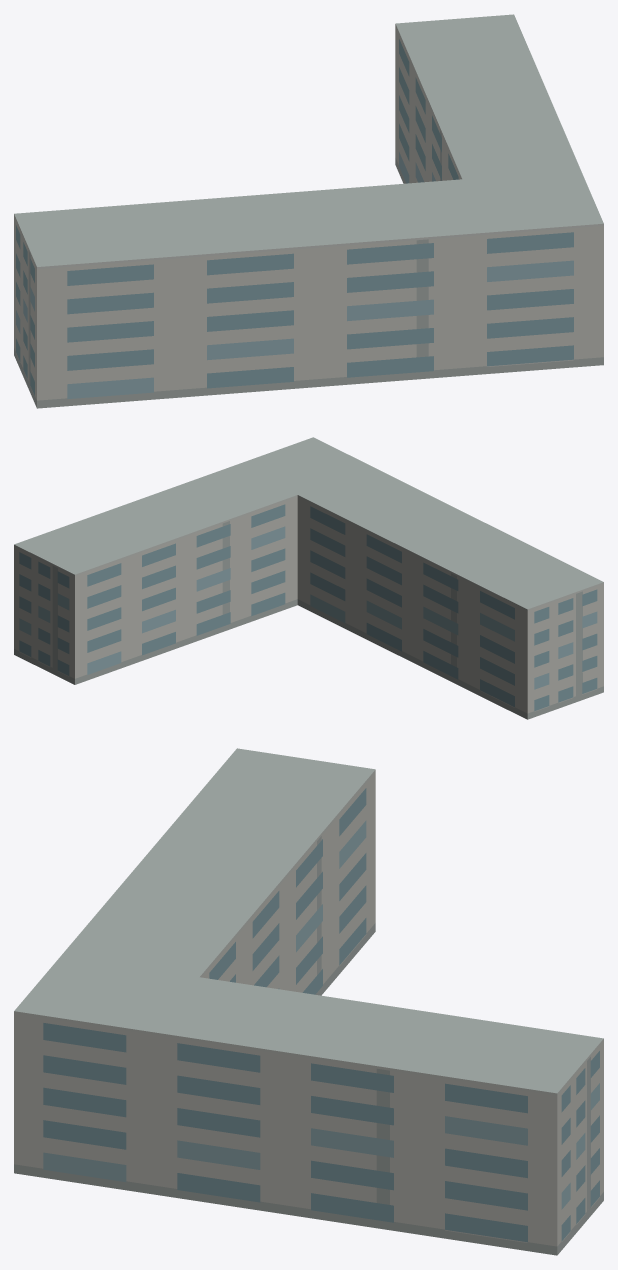
File: residential-d2168f3c-db18-4d0d-967d-a881d3206640.glb
The picture shows the model from 3 angles, top to bottom: view 1: azimuth 30°, elevation 25°; view 2: azimuth 150°, elevation 25°; view 3: azimuth 270°, elevation 25°; orthographic projection. The views are drawn at different scales.
Visible parts, largest first — view 1: residential-d2168f3c-db18-4d0d-967d-a881d3206640.tmp; view 2: residential-d2168f3c-db18-4d0d-967d-a881d3206640.tmp; view 3: residential-d2168f3c-db18-4d0d-967d-a881d3206640.tmp.
Boxes of the visible parts, left/top/right/bottom form: residential-d2168f3c-db18-4d0d-967d-a881d3206640.tmp: left=14, top=14, right=603, bottom=408; residential-d2168f3c-db18-4d0d-967d-a881d3206640.tmp: left=14, top=437, right=603, bottom=719; residential-d2168f3c-db18-4d0d-967d-a881d3206640.tmp: left=14, top=748, right=603, bottom=1255.
Bounding box in the file's own units: 69.6 × 15.25 × 50.28.
